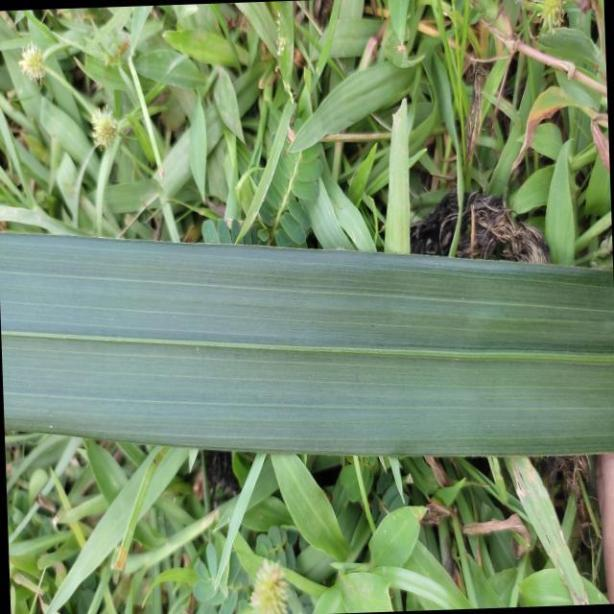Healthy: (0, 223, 614, 460)
